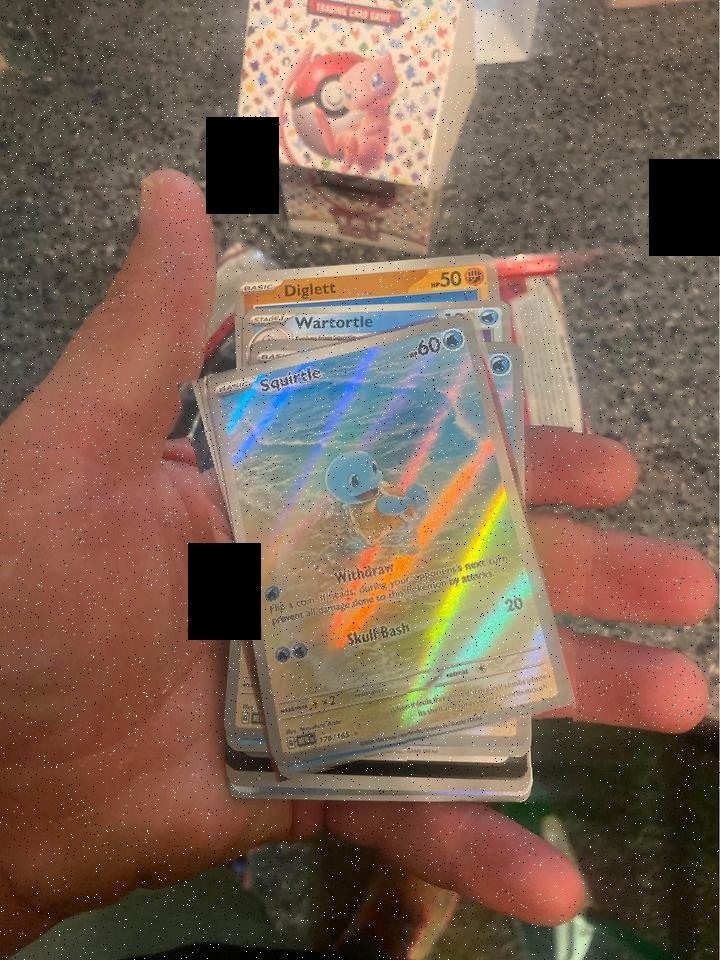card: (205, 316, 573, 769)
